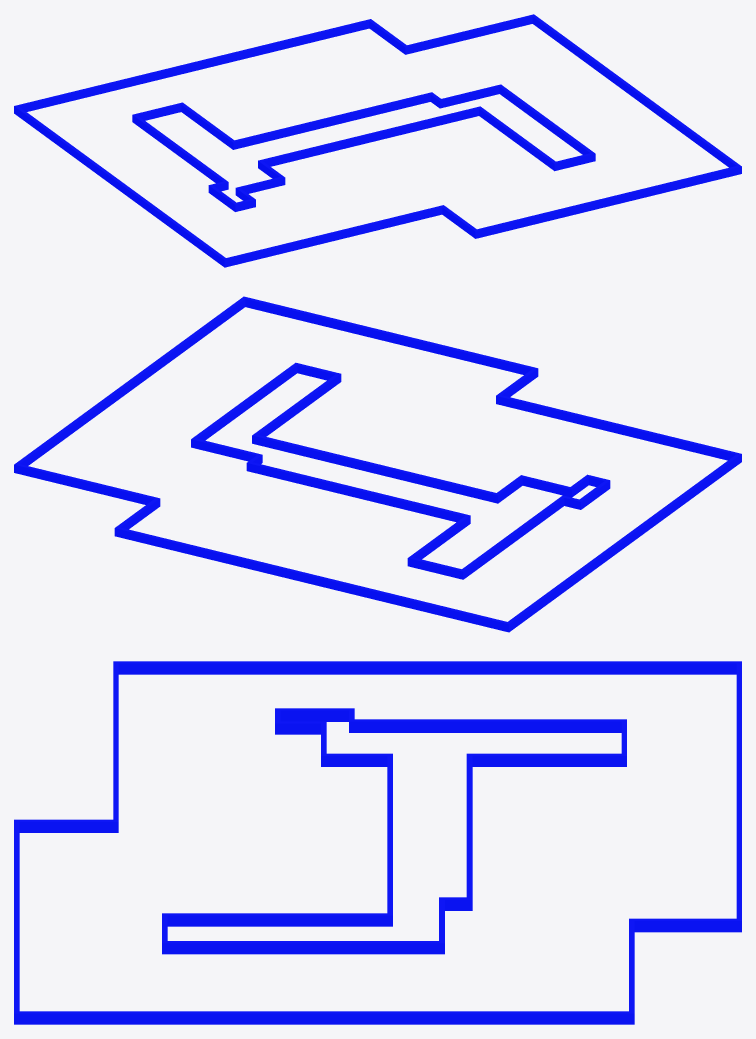
Rendered from walls.glb.
3 renders of one model, top to bottom at view 1: azimuth 30°, elevation 25°; view 2: azimuth 150°, elevation 25°; view 3: azimuth 270°, elevation 25°, orthographic. The views are drawn at different scales.
Parts seen in each view (by area): view 1: course_model; view 2: course_model; view 3: course_model.
Boxes of the visible parts, x1,y1,x2,y2 form: course_model: (14,14,741,267); course_model: (14,296,741,632); course_model: (14,661,741,1024).
Size of the model in its own units: 204 by 2.99 by 178.
